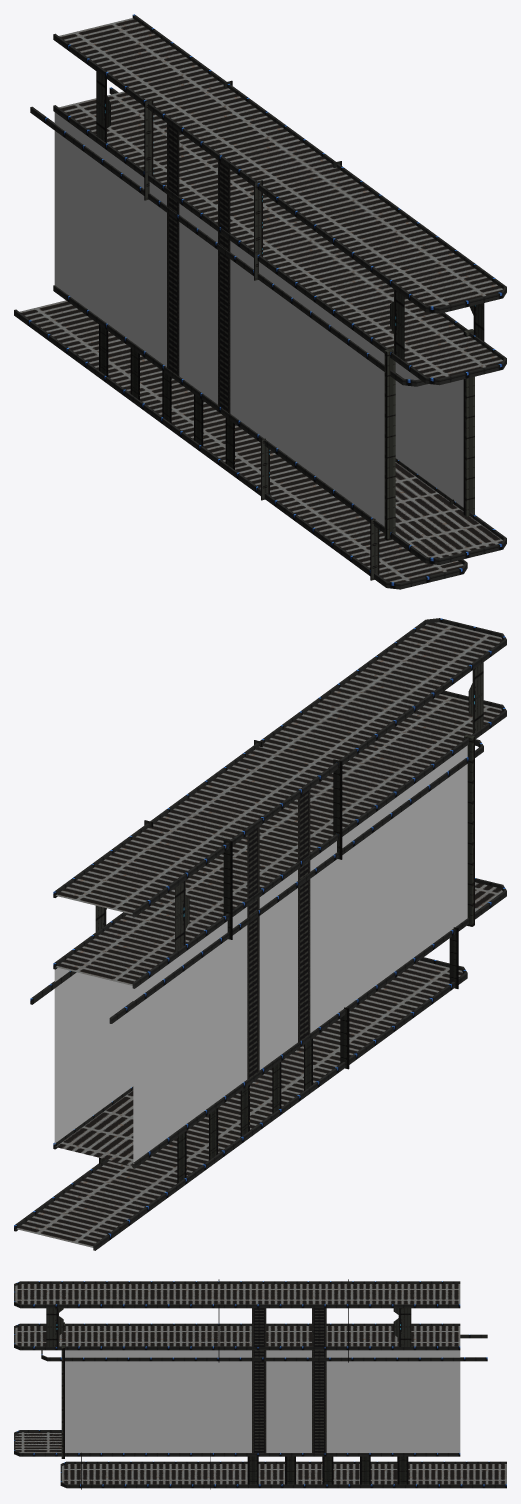
File: Ultra_wire6.fbx
The picture shows the model from 3 angles, top to bottom: view 1: azimuth 30°, elevation 25°; view 2: azimuth 150°, elevation 25°; view 3: azimuth 270°, elevation 25°; orthographic projection. The views are drawn at different scales.
Parts seen in each view (by area): view 1: polySurface555; view 2: polySurface555; view 3: polySurface555.
Part boxes in pixels (box(x1,y1,x2,y2)): polySurface555: box(14, 14, 506, 589); polySurface555: box(14, 618, 506, 1250); polySurface555: box(14, 1279, 506, 1489).
Bounding box in the file's own units: 4.29 × 14.62 × 35.29.
